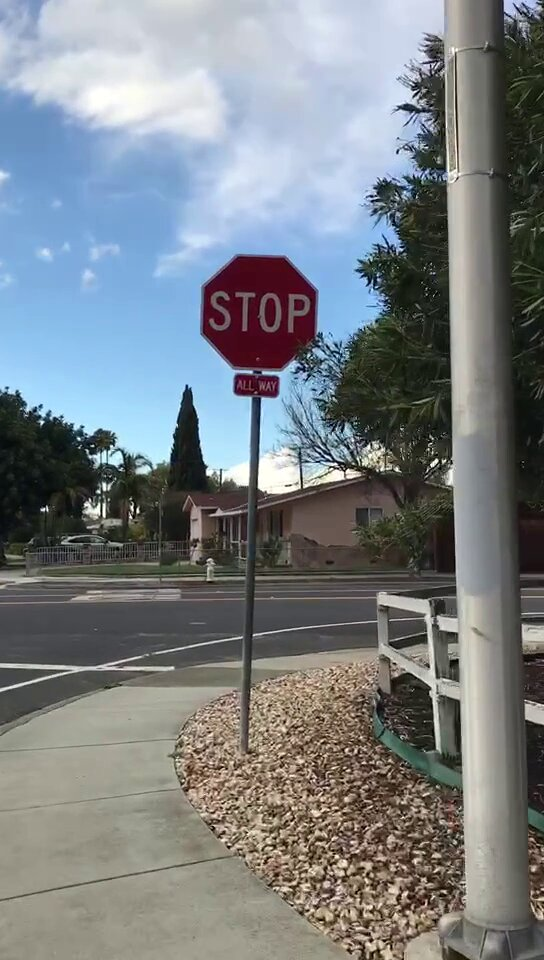stop_sign: (202, 255, 317, 368)
